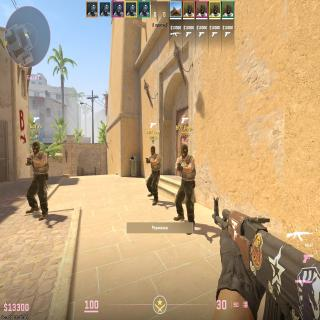T-Body: (175, 143, 196, 234), (30, 141, 49, 218), (148, 146, 160, 205)
T-Head: (32, 141, 40, 153), (181, 144, 188, 157), (150, 146, 156, 154)
